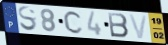4: (87, 10, 105, 37)
8: (40, 8, 57, 33)
B: (107, 12, 130, 39)
C: (62, 10, 84, 35)
S: (17, 6, 38, 33)
V: (128, 14, 149, 40)
